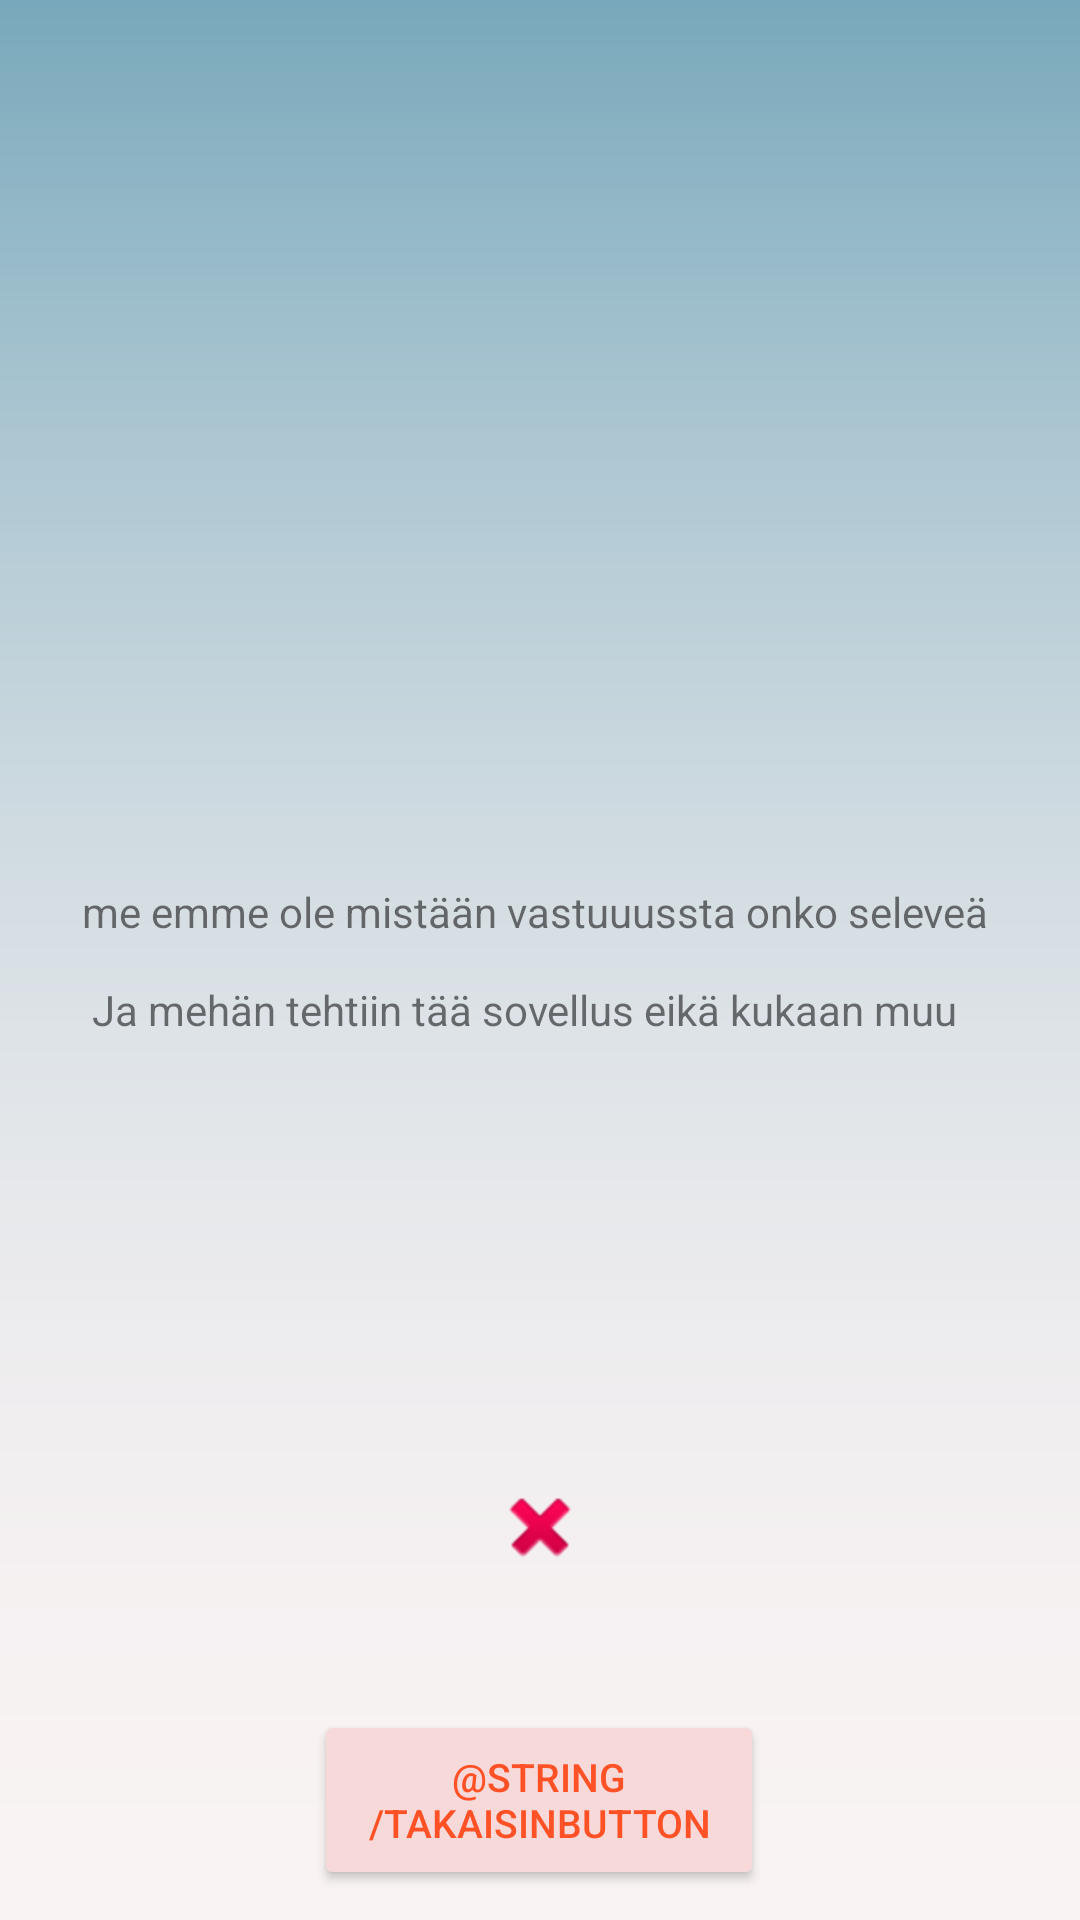

Where to tap for icons on this 1080 x 1920 app screen, as point (x, y):
delete: point (540, 1527)
